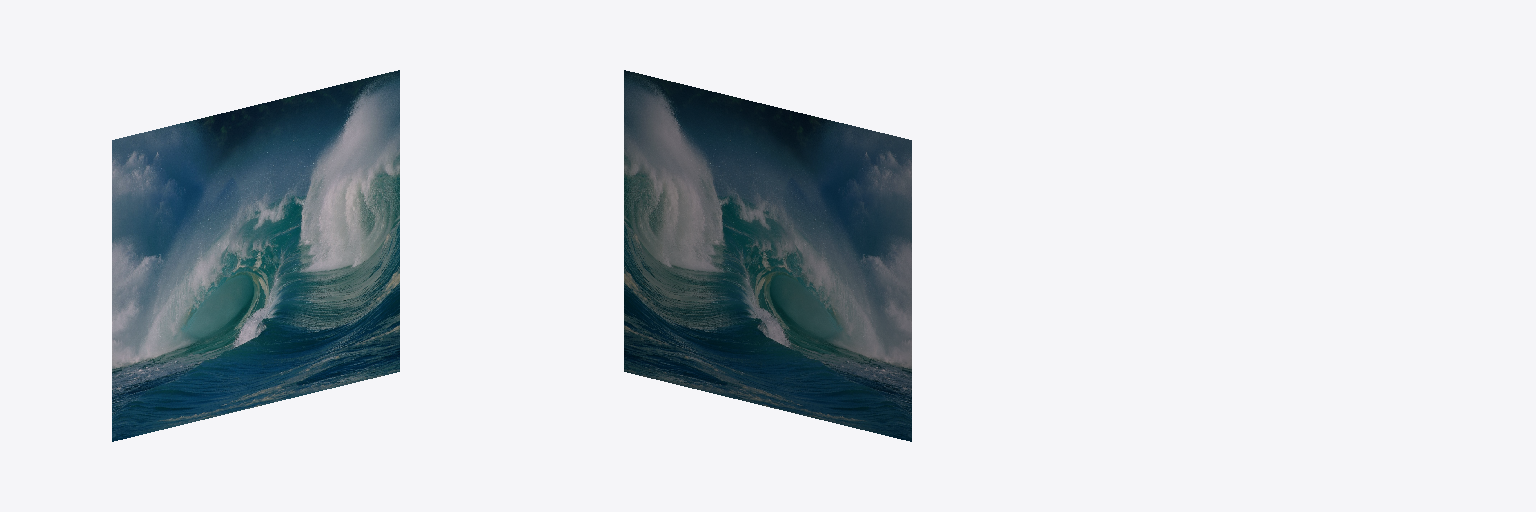
3 renders of one model, left to right at view 1: azimuth 30°, elevation 25°; view 2: azimuth 150°, elevation 25°; view 3: azimuth 270°, elevation 25°, orthographic.
Bounding box in the file's own units: 1 × 1 × 0.
1 materials, 1 textured.